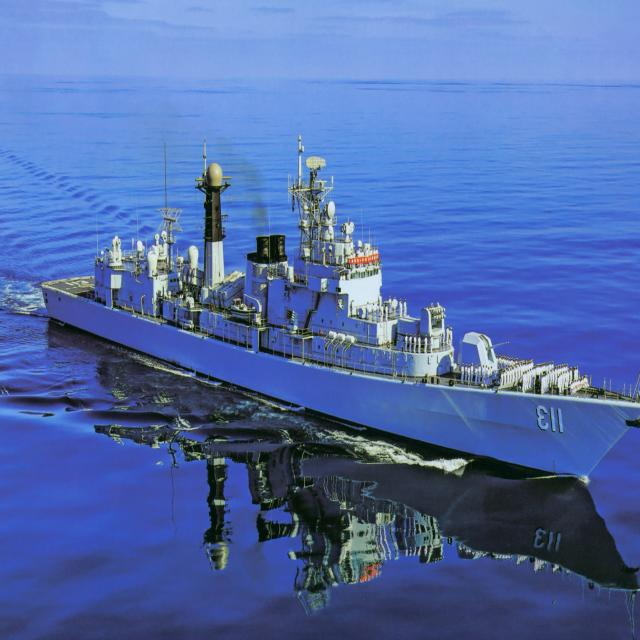navalvessels: (34, 130, 640, 480)
